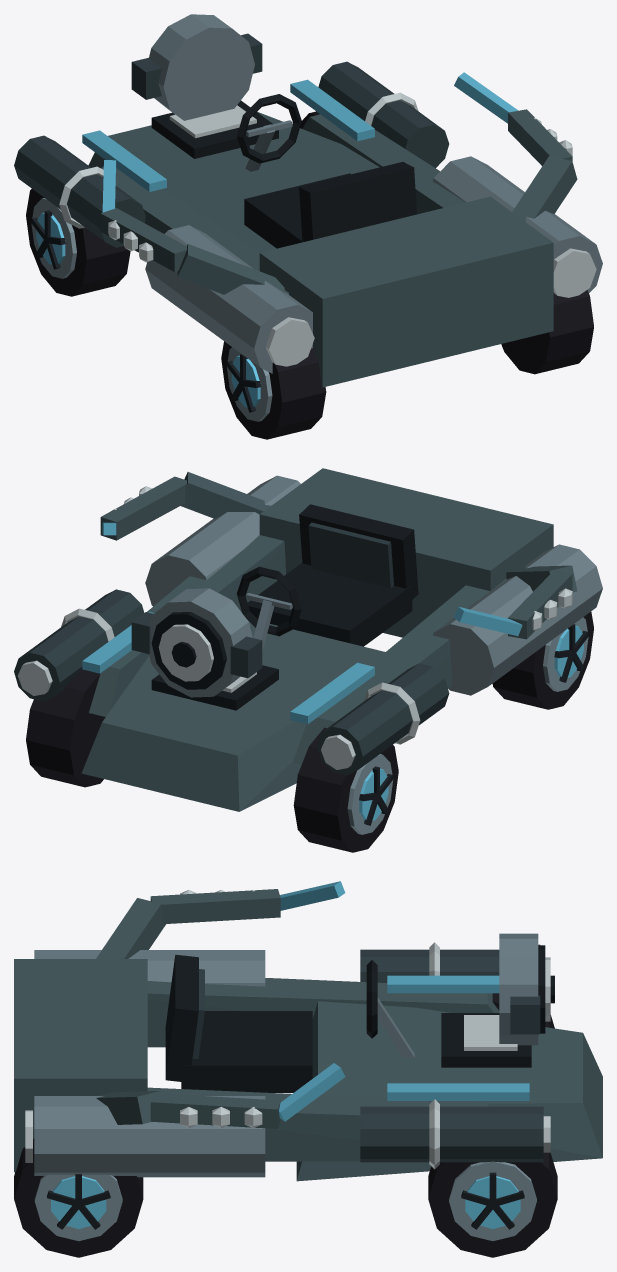
The model's file is kart.glb.
The picture shows the model from 3 angles, top to bottom: view 1: azimuth 30°, elevation 25°; view 2: azimuth 150°, elevation 25°; view 3: azimuth 270°, elevation 25°; orthographic projection. The views are drawn at different scales.
Visible parts, largest first — view 1: identity-lab-pod-lab-pod-segmented-shell, identity-lab-pod-motif-plasma, identity-lab-pod-driver-cockpit, identity-lab-pod-motif-tentacles, identity-lab-pod-motif-optic, wheel-rear-left, wheel-front-left, wheel-rear-right; view 2: identity-lab-pod-lab-pod-segmented-shell, identity-lab-pod-driver-cockpit, identity-lab-pod-motif-plasma, identity-lab-pod-motif-optic, identity-lab-pod-motif-tentacles, wheel-front-left, wheel-front-right, wheel-rear-left; view 3: identity-lab-pod-lab-pod-segmented-shell, identity-lab-pod-driver-cockpit, identity-lab-pod-motif-plasma, identity-lab-pod-motif-tentacles, wheel-front-right, wheel-rear-right, identity-lab-pod-motif-optic.
Boxes of the visible parts, x1,y1,x2,y2 form: identity-lab-pod-lab-pod-segmented-shell: (82, 79, 602, 387); identity-lab-pod-motif-plasma: (14, 61, 449, 247); identity-lab-pod-driver-cockpit: (236, 94, 416, 248); identity-lab-pod-motif-tentacles: (100, 72, 577, 294); identity-lab-pod-motif-optic: (131, 14, 262, 120); wheel-rear-left: (221, 341, 326, 439); wheel-front-left: (26, 189, 130, 296); wheel-rear-right: (501, 290, 593, 374); identity-lab-pod-lab-pod-segmented-shell: (81, 468, 602, 811); identity-lab-pod-driver-cockpit: (236, 504, 418, 651); identity-lab-pod-motif-plasma: (14, 589, 449, 775); identity-lab-pod-motif-optic: (131, 588, 262, 697); identity-lab-pod-motif-tentacles: (100, 472, 577, 639); wheel-front-left: (293, 727, 398, 852); wheel-front-right: (26, 669, 105, 787); wheel-rear-left: (492, 611, 593, 709); identity-lab-pod-lab-pod-segmented-shell: (14, 950, 602, 1181); identity-lab-pod-driver-cockpit: (165, 954, 414, 1092); identity-lab-pod-motif-plasma: (360, 942, 550, 1169); identity-lab-pod-motif-tentacles: (96, 881, 345, 1128); wheel-front-right: (428, 1152, 557, 1257); wheel-rear-right: (14, 1138, 143, 1257); identity-lab-pod-motif-optic: (499, 933, 554, 1045).
Size of the model in its own units: 2.45 by 1.22 by 2.73.
